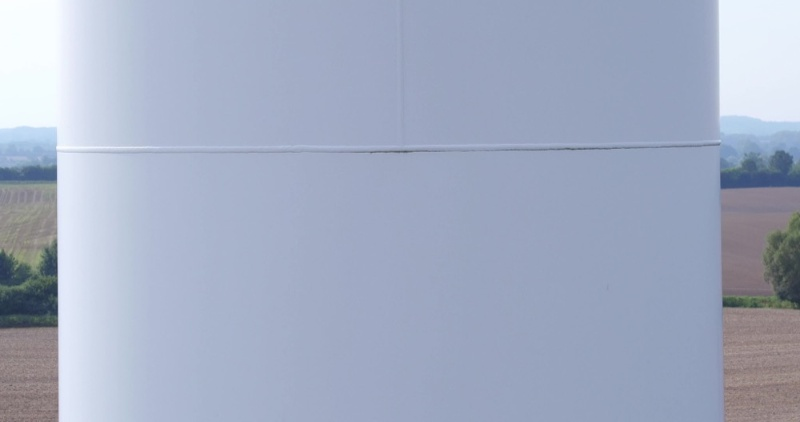weldseam: (50, 134, 727, 163), (390, 1, 414, 156)
